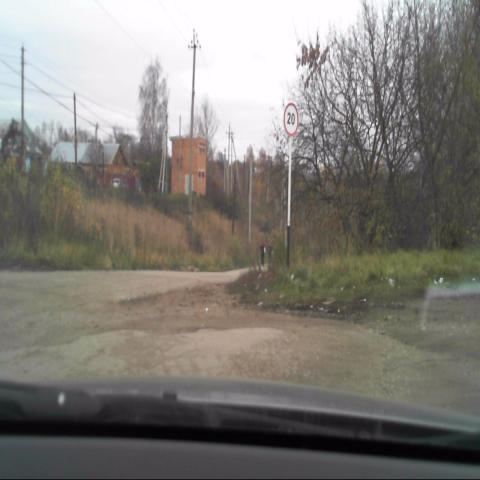3_24: (283, 102, 299, 137)
